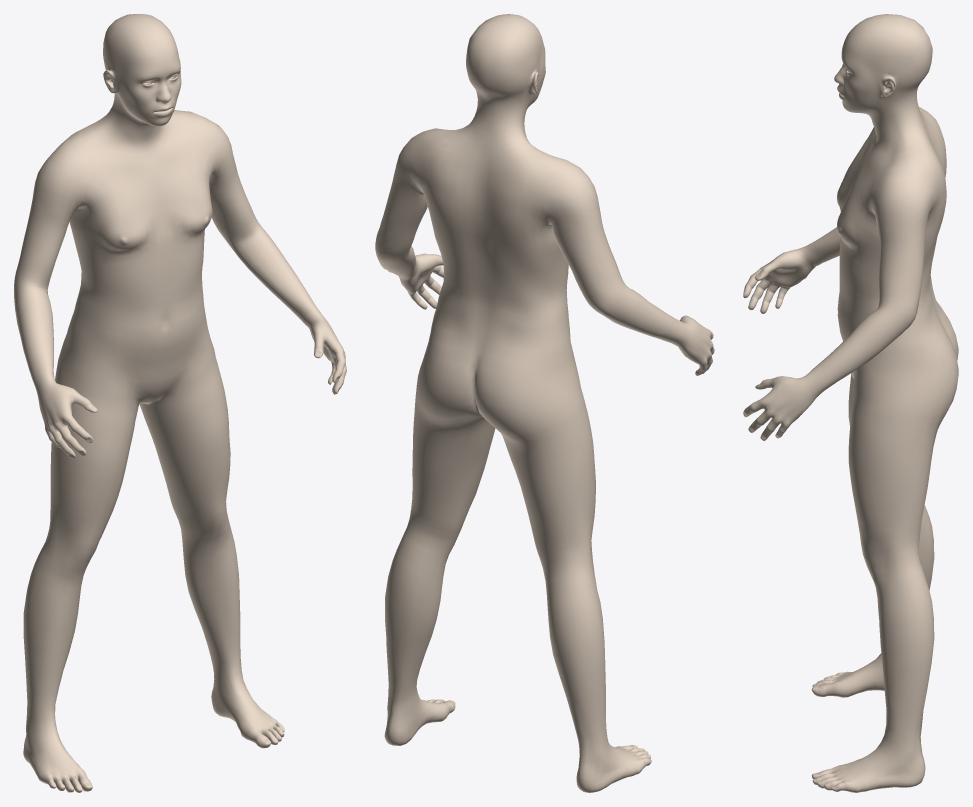
The model's file is neutro_body_v1.glb.
3 views of the same model, side by side, from view 1: azimuth 30°, elevation 25°; view 2: azimuth 150°, elevation 25°; view 3: azimuth 270°, elevation 25° (orthographic). The views are drawn at different scales.
Parts seen in each view (by area): view 1: NeutroBodyV1; view 2: NeutroBodyV1; view 3: NeutroBodyV1.
Part boxes in pixels (bbox=[...]): NeutroBodyV1: bbox=[14, 14, 346, 792]; NeutroBodyV1: bbox=[375, 14, 714, 792]; NeutroBodyV1: bbox=[743, 14, 958, 792].
Size of the model in its own units: 0.7372 by 1.73 by 0.4697.
